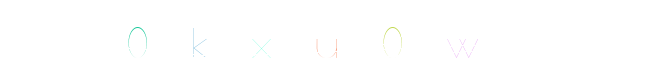0: (97, 0, 177, 80), (315, 0, 395, 80)
K: (102, 0, 182, 80)
U: (285, 0, 365, 80)
W: (346, 0, 426, 80)
X: (160, 0, 240, 80)
